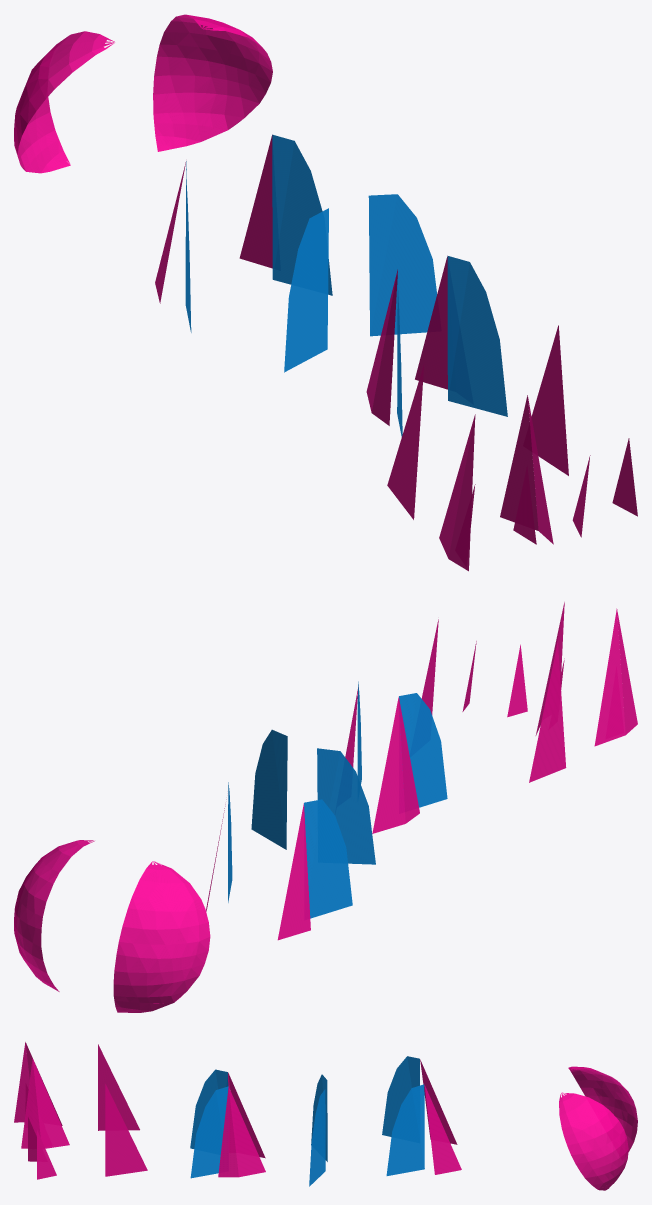
File: TRIMARAN_VOILES.dae
3 views of the same model, one above another, from view 1: azimuth 30°, elevation 25°; view 2: azimuth 150°, elevation 25°; view 3: azimuth 270°, elevation 25° (orthographic). The views are drawn at different scales.
Visible parts, largest first — view 1: SketchUp (×17); view 2: SketchUp (×14); view 3: SketchUp (×20).
Part boxes in pixels (<box>): SketchUp (×17): <box>14,14,637,571</box>; SketchUp (×14): <box>14,608,637,1012</box>; SketchUp (×20): <box>14,1042,637,1190</box>.
Size of the model in its own units: 216174 by 699973 by 112681.
